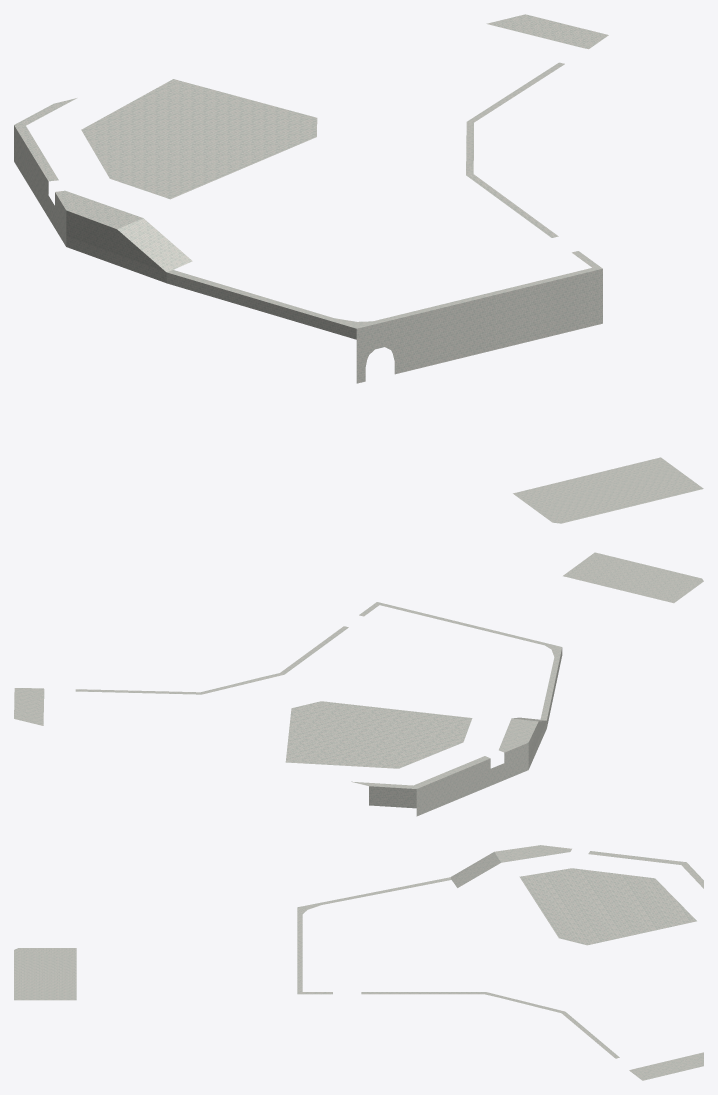
Rendered from kd_stage_1363c5_9_12_bounded.glb.
3 views of the same model, one above another, from view 1: azimuth 30°, elevation 25°; view 2: azimuth 150°, elevation 25°; view 3: azimuth 270°, elevation 25° (orthographic). The views are drawn at different scales.
Visible parts, largest first — view 1: kd_stage_1363c5_9_12_bounded; view 2: kd_stage_1363c5_9_12_bounded; view 3: kd_stage_1363c5_9_12_bounded.
Boxes of the visible parts, <box> form: kd_stage_1363c5_9_12_bounded: <box>14,14,703,523</box>; kd_stage_1363c5_9_12_bounded: <box>14,552,703,816</box>; kd_stage_1363c5_9_12_bounded: <box>14,845,703,1080</box>.
Size of the model in its own units: 102 by 12.76 by 136.
1 material, 1 textured.
